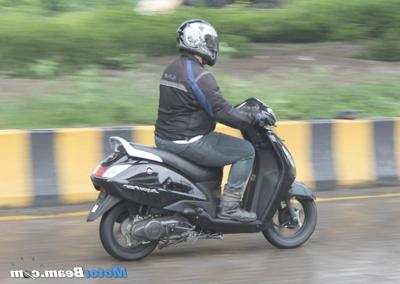With Helmet: (172, 16, 223, 69)
